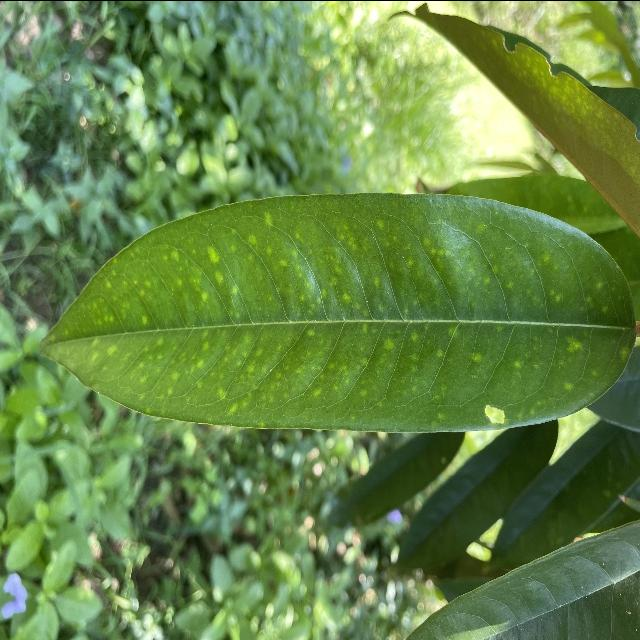Leaf Spot: (32, 182, 640, 437)
